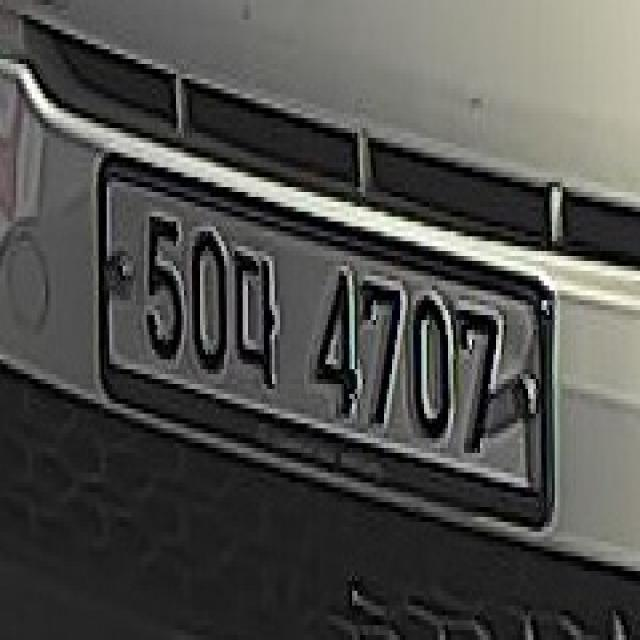0: (414, 288, 454, 448), (193, 215, 229, 382)
4: (312, 268, 360, 420)
5: (142, 212, 185, 364)
7: (460, 302, 502, 458), (363, 279, 402, 428)
da: (234, 246, 278, 396)
license_plate: (94, 144, 565, 543)
